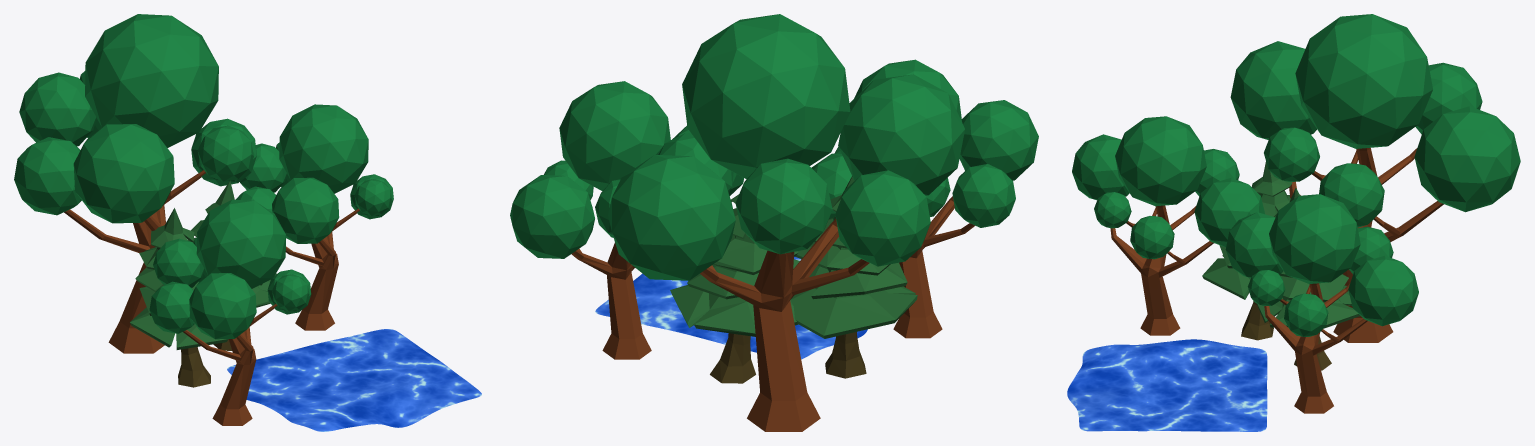
File: Tree03.gltf
3 renders of one model, left to right at view 1: azimuth 30°, elevation 25°; view 2: azimuth 150°, elevation 25°; view 3: azimuth 270°, elevation 25°, orthographic. The views are drawn at different scales.
Parts seen in each view (by area): view 1: Tree01, Tree01.001, Grid, Tree01.002, Tree03.001, Tree03; view 2: Tree01, Tree01.002, Tree01.001, Tree03.001, Tree03, Grid; view 3: Tree01, Tree01.002, Tree01.001, Grid, Tree03.001, Tree03.
Boxes of the visible parts, x1,y1,x2,y2 form: Tree01: (14, 14, 256, 353); Tree01.001: (149, 199, 311, 425); Grid: (227, 329, 481, 431); Tree01.002: (235, 104, 393, 330); Tree03.001: (130, 208, 228, 387); Tree03: (187, 181, 276, 350); Tree01: (608, 14, 964, 431); Tree01.002: (510, 81, 743, 359); Tree01.001: (811, 59, 1038, 338); Tree03.001: (790, 176, 917, 378); Tree03: (670, 194, 799, 383); Grid: (595, 256, 867, 359); Tree01: (1230, 14, 1520, 342); Tree01.002: (1225, 194, 1418, 413); Tree01.001: (1072, 116, 1264, 335); Grid: (1067, 339, 1267, 431); Tree03.001: (1202, 161, 1292, 340); Tree03: (1257, 187, 1360, 370).
Size of the model in its own units: 13.31 by 12.09 by 15.39.
6 materials, 6 textured.
